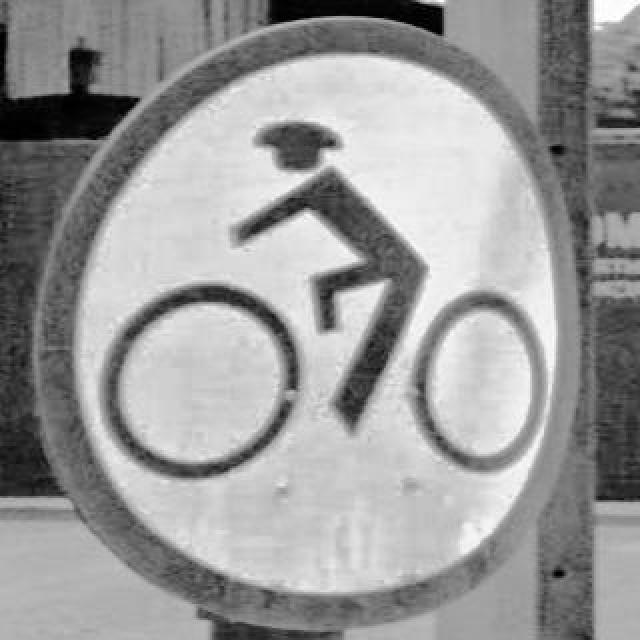bike lane: (32, 16, 582, 628)
